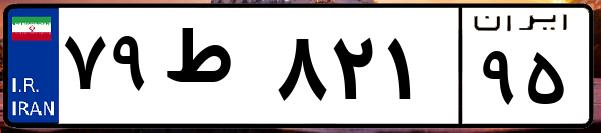1: (385, 28, 445, 110)
2: (330, 28, 385, 110)
5: (525, 38, 570, 115)
7: (57, 26, 110, 100)
8: (270, 28, 330, 110)
9: (475, 38, 525, 113), (110, 28, 158, 98)
ط: (158, 20, 270, 120)
